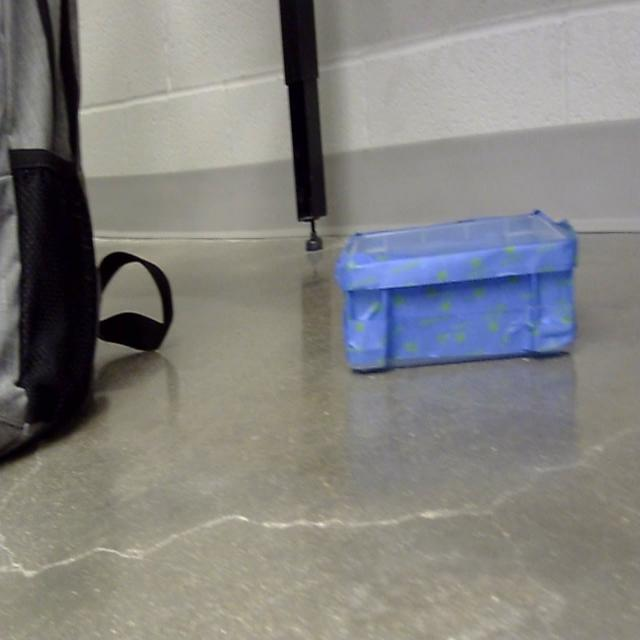bucket: (334, 212, 579, 376)
